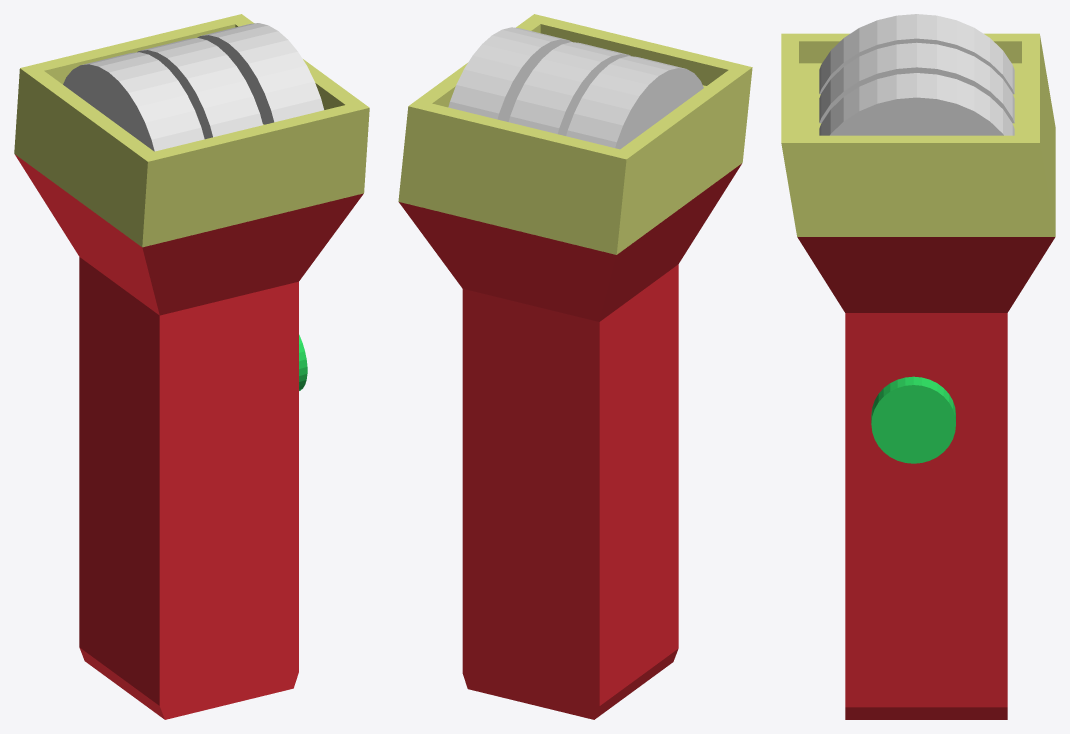
3 renders of one model, left to right at view 1: azimuth 30°, elevation 25°; view 2: azimuth 150°, elevation 25°; view 3: azimuth 270°, elevation 25°, orthographic. The views are drawn at different scales.
Parts seen in each view (by area): view 1: Cube_64, Cylinder.010_66, Cylinder.012_68, Cylinder.011_67; view 2: Cube_64, Cylinder.010_66, Cylinder.012_68, Cylinder.011_67; view 3: Cube_64, Cylinder.012_68, Cylinder.011_67, Cylinder.009_65, Cylinder.010_66.
Boxes of the visible parts, left/top/right/bottom form: Cube_64: left=14, top=14, right=369, bottom=719; Cylinder.010_66: left=63, top=52, right=204, bottom=151; Cylinder.012_68: left=197, top=23, right=323, bottom=124; Cylinder.011_67: left=137, top=38, right=262, bottom=139; Cube_64: left=398, top=14, right=752, bottom=719; Cylinder.010_66: left=566, top=56, right=703, bottom=149; Cylinder.012_68: left=448, top=27, right=571, bottom=121; Cylinder.011_67: left=508, top=42, right=630, bottom=135; Cube_64: left=781, top=33, right=1055, bottom=719; Cylinder.012_68: left=819, top=73, right=1014, bottom=135; Cylinder.011_67: left=819, top=42, right=1014, bottom=123; Cylinder.009_65: left=871, top=376, right=955, bottom=463; Cylinder.010_66: left=819, top=14, right=1014, bottom=94.
Size of the model in its own units: 3.22 by 8.6 by 3.38.
